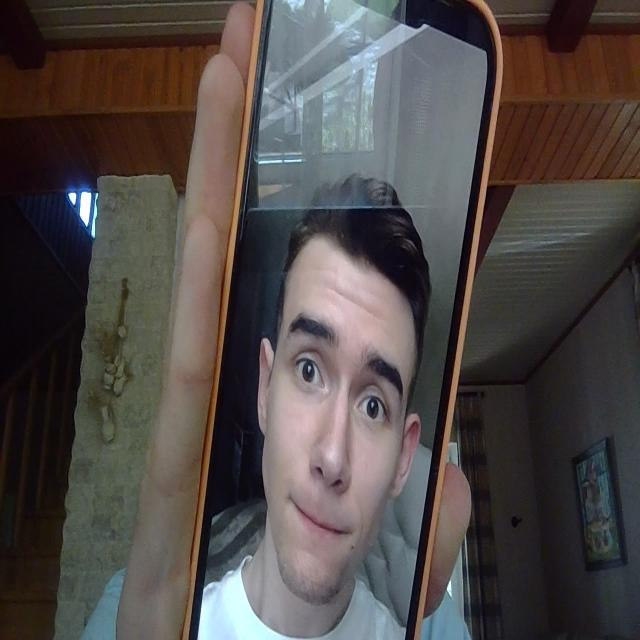device: (196, 4, 466, 640)
